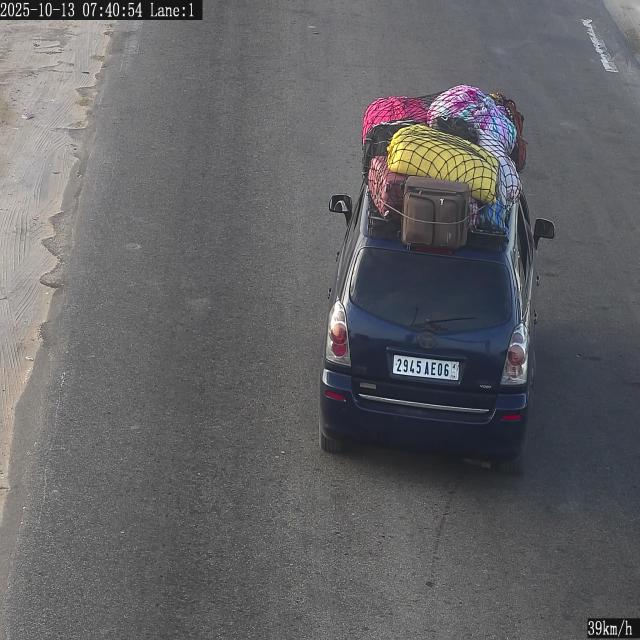BUS: (393, 355, 459, 381)
